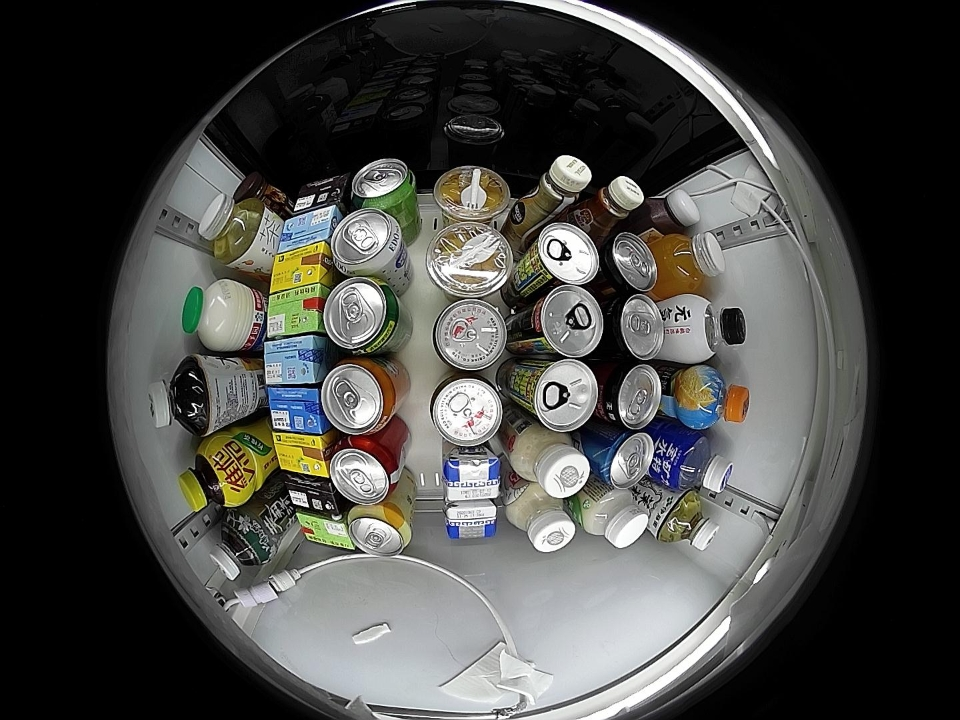anmuxi: (443, 447, 502, 500), (444, 497, 497, 538)
baicha: (654, 491, 720, 551)
baokuangli: (662, 429, 734, 495)
chapai2: (197, 193, 268, 266)
damaicha: (148, 357, 212, 434)
fenda: (321, 357, 400, 435)
guolicheng: (676, 365, 750, 430)
hongniu2: (432, 298, 507, 372), (430, 373, 505, 447)
kafei: (516, 154, 593, 227), (578, 175, 645, 237)
kele: (329, 437, 400, 505)
lingdukele: (598, 361, 663, 430), (603, 294, 666, 361), (599, 232, 658, 295)
liziyuan: (181, 279, 257, 353)
lujikafei: (231, 172, 281, 213)
mangguoxiaolao: (346, 505, 413, 556)
moliqingcha: (209, 515, 269, 581)
qingdaowangzi-2: (593, 429, 655, 488)
quchenshixiangcao: (351, 159, 417, 210)
rusuanjunqishui: (331, 208, 405, 276)
wanglaoji: (265, 284, 326, 338), (295, 511, 353, 550)
weic: (656, 232, 726, 295)
weitanai: (268, 385, 329, 435)
weitanai2: (281, 474, 343, 518), (291, 172, 352, 216)
weitanaiditang: (264, 334, 328, 386), (276, 204, 341, 254)
weitaningmeng: (269, 242, 333, 292), (272, 430, 331, 478)
weitaningmeng-bottle: (178, 438, 246, 512)
weiweidounai: (511, 427, 590, 499), (505, 484, 576, 553)
xianguolao: (426, 220, 515, 298), (433, 166, 512, 225)
xuebi2: (323, 277, 402, 354)
yezhi: (527, 285, 604, 359), (524, 357, 599, 432), (526, 221, 600, 289)
yousuanru: (579, 484, 649, 548)
youyanggudong: (644, 189, 701, 237)
yuanqishui: (670, 295, 747, 364)
